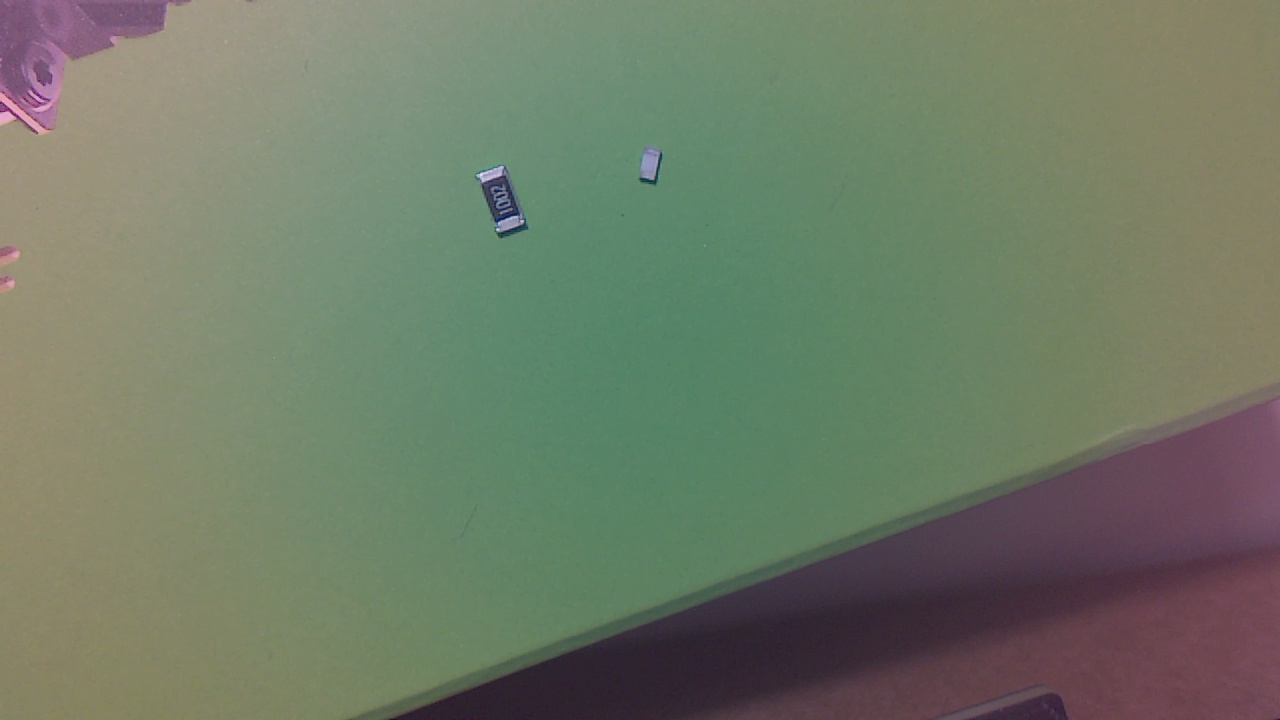Resistor: (477, 171, 537, 241)
